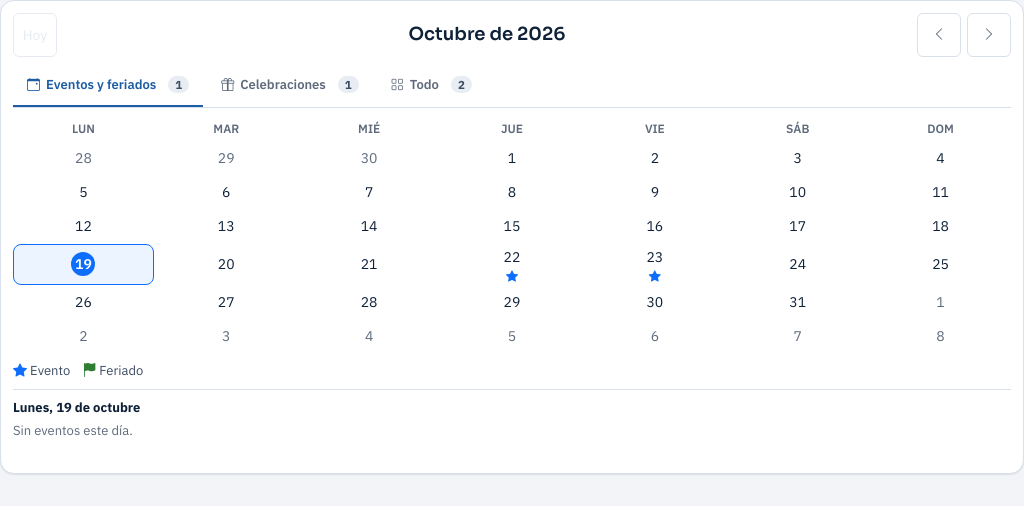
Test: El calendario del mes (ampliado) › al tocar un día lista lo que hay en él
The image size is (1024, 506).
Click the cell named "jueves, 22 de octubre: Evento, Feria de salud".
click(512, 264)  # box [442,244,582,285]
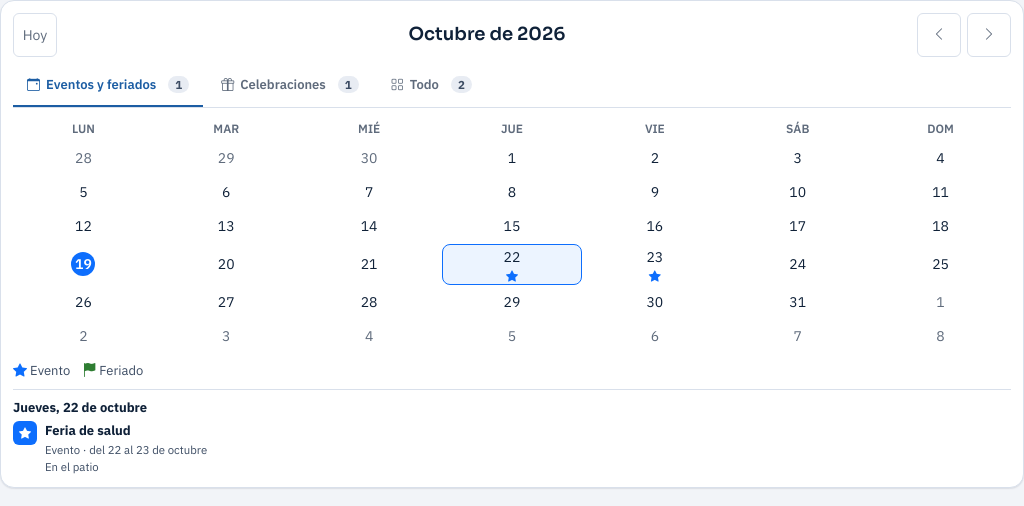
Expected: the text "Feria de salud" is shown, [45,422,131,439]
Expected: the text "En el patio" is shown, [45,459,99,474]
Click the cell named "martes, 20 de octubre".
click(226, 264)  # box [156,244,297,285]
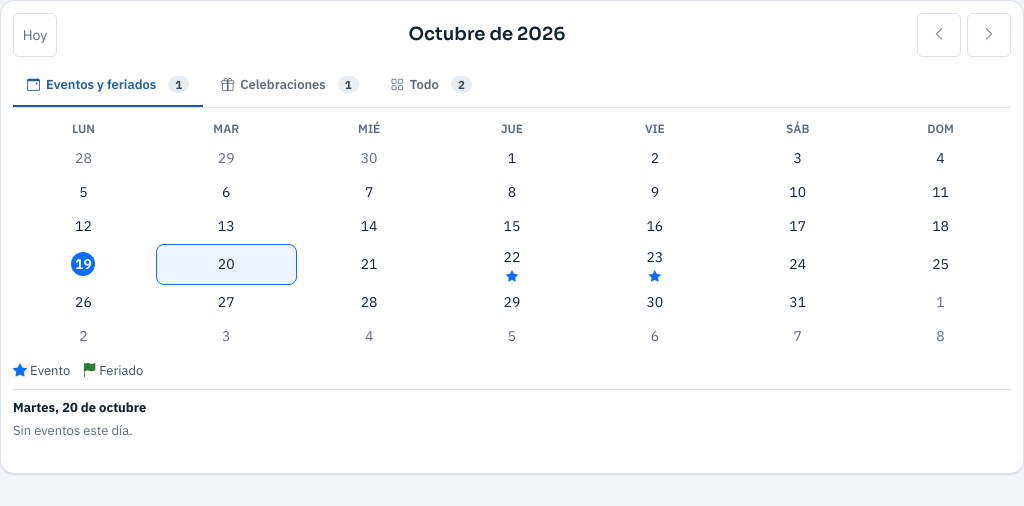
Expected: the text "Sin eventos este día." is shown, [13,422,133,439]
